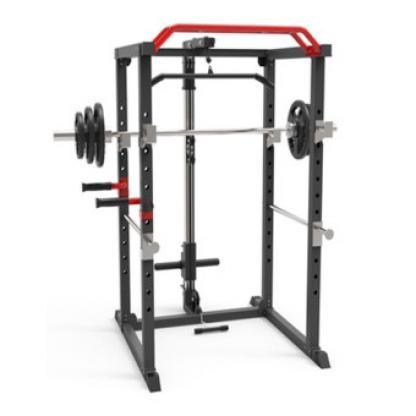smith machine: (77, 23, 336, 394)
